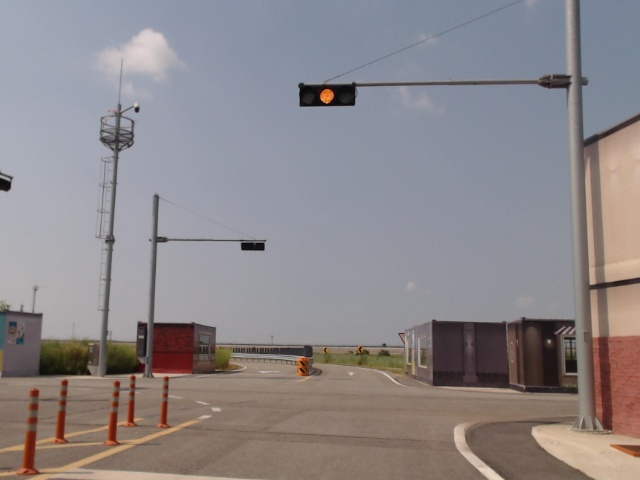orange_3: (300, 82, 356, 107)
